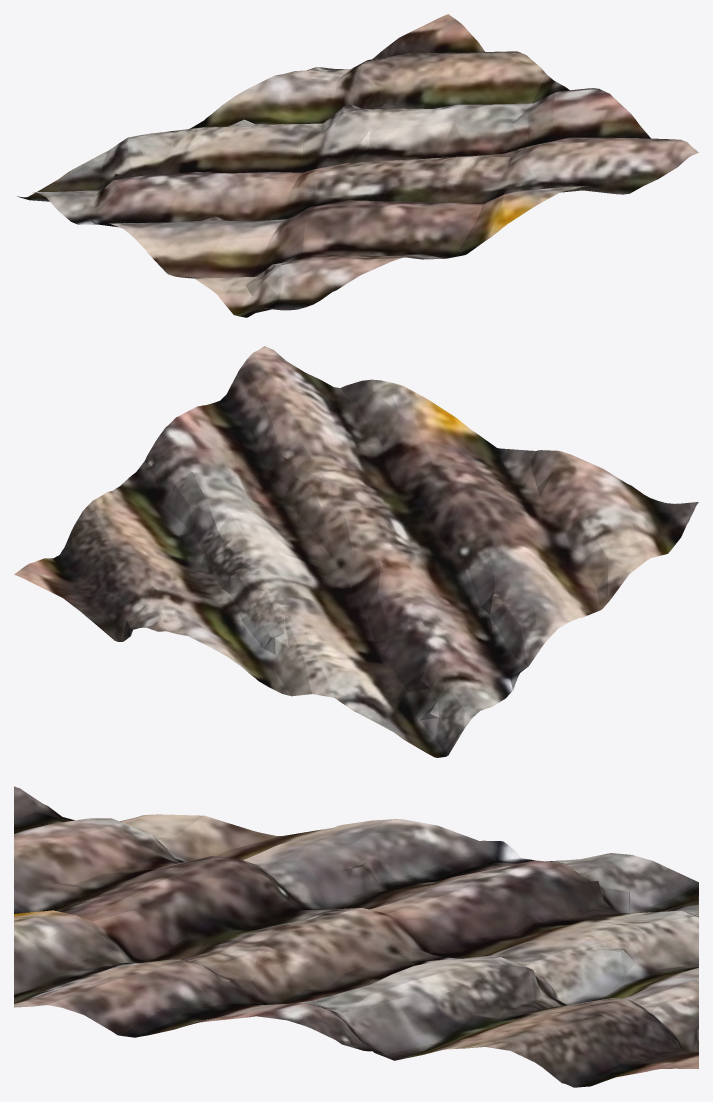
3 renders of one model, top to bottom at view 1: azimuth 30°, elevation 25°; view 2: azimuth 150°, elevation 25°; view 3: azimuth 270°, elevation 25°, orthographic. The views are drawn at different scales.
Bounding box in the file's own units: 0.8374 × 0.2342 × 0.8374.
Materials: 3 (3 with a texture image).
